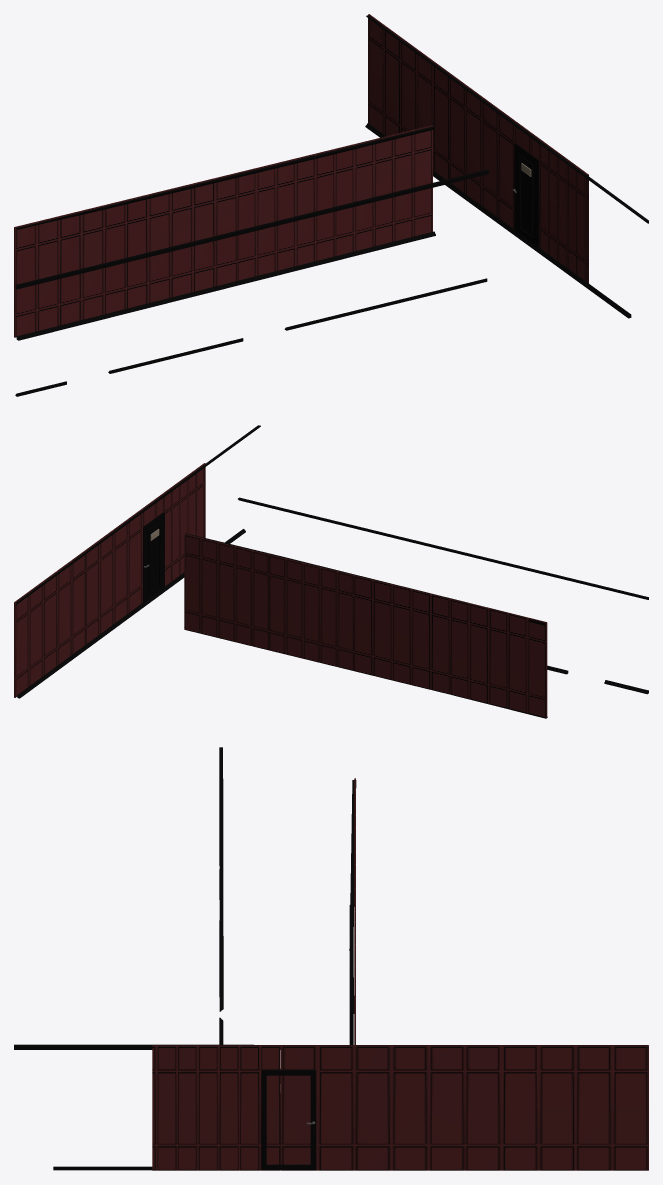
Rendered from Parte2Casino.fbx.
3 renders of one model, top to bottom at view 1: azimuth 30°, elevation 25°; view 2: azimuth 150°, elevation 25°; view 3: azimuth 270°, elevation 25°, orthographic. The views are drawn at different scales.
Visible parts, largest first — view 1: Plane.731, Plane.750, Plane.741, Plane.003, Cube.160, Cube.229, Cube.180, Cube.181, Cube.197, Cube.159, Cube.171, Cube.001; view 2: Plane.731, Plane.750, Plane.741, Plane.003, Cube.229, Cube.160, Cube.197, Cube.171; view 3: Plane.741, Plane.003, Cube.229, Cube.171, Cube.160, Cube.159.
Boxes of the visible parts, left/top/right/bottom form: Plane.731: left=14, top=173, right=237, bottom=337; Plane.750: left=236, top=125, right=432, bottom=280; Plane.741: left=368, top=14, right=531, bottom=228; Plane.003: left=530, top=133, right=588, bottom=283; Cube.160: left=15, top=169, right=488, bottom=289; Cube.229: left=514, top=143, right=539, bottom=247; Cube.180: left=16, top=259, right=323, bottom=340; Cube.181: left=15, top=278, right=487, bottom=396; Cube.197: left=365, top=123, right=631, bottom=318; Cube.159: left=16, top=154, right=323, bottom=229; Cube.171: left=366, top=15, right=648, bottom=223; Cube.001: left=322, top=231, right=435, bottom=263; Plane.731: left=354, top=575, right=547, bottom=717; Plane.750: left=184, top=534, right=353, bottom=670; Plane.741: left=14, top=499, right=156, bottom=697; Plane.003: left=155, top=463, right=205, bottom=586; Cube.229: left=143, top=512, right=164, bottom=602; Cube.160: left=238, top=497, right=648, bottom=599; Cube.197: left=17, top=529, right=245, bottom=698; Cube.171: left=16, top=425, right=260, bottom=604; Plane.741: left=281, top=1045, right=648, bottom=1170; Plane.003: left=152, top=1045, right=280, bottom=1170; Cube.229: left=261, top=1069, right=316, bottom=1169; Cube.171: left=14, top=1044, right=648, bottom=1049; Cube.160: left=219, top=747, right=223, bottom=1011; Cube.159: left=349, top=780, right=356, bottom=948.
Bounding box in the file's own units: 6895 × 1350 × 6134.
